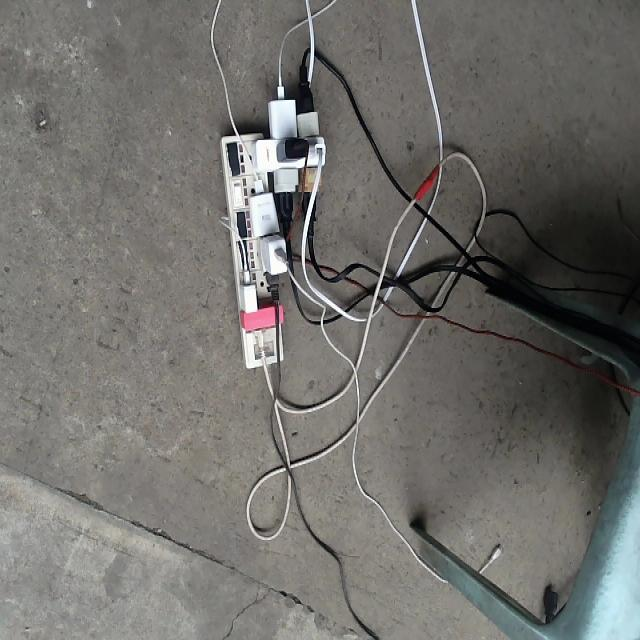-: (221, 60, 326, 365)
